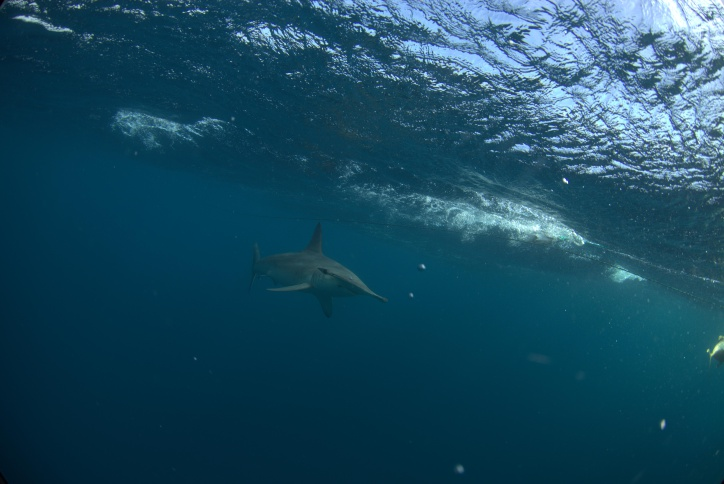Hammer: (233, 225, 398, 341)
